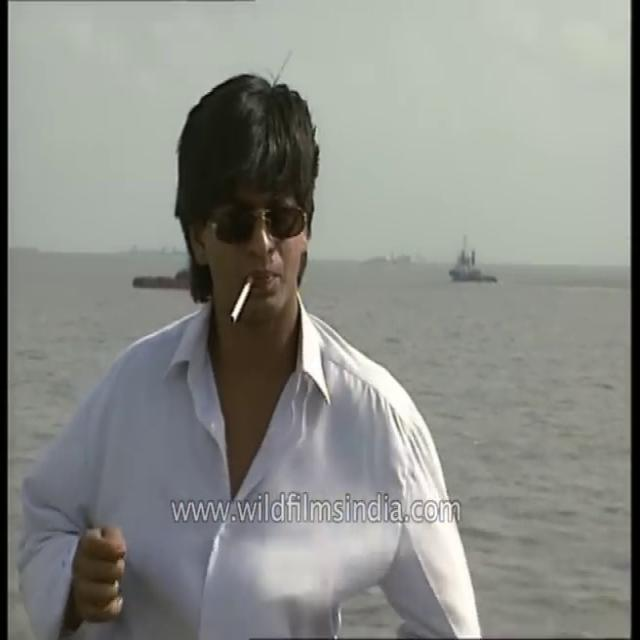Smooking: (220, 277, 256, 327)
